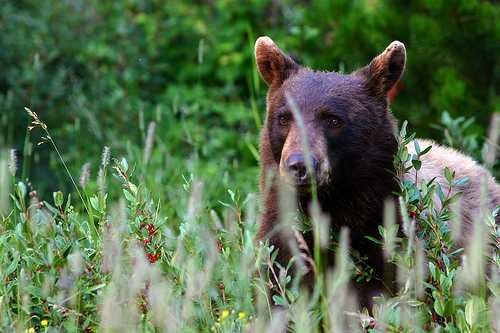bear: (261, 66, 389, 194)
